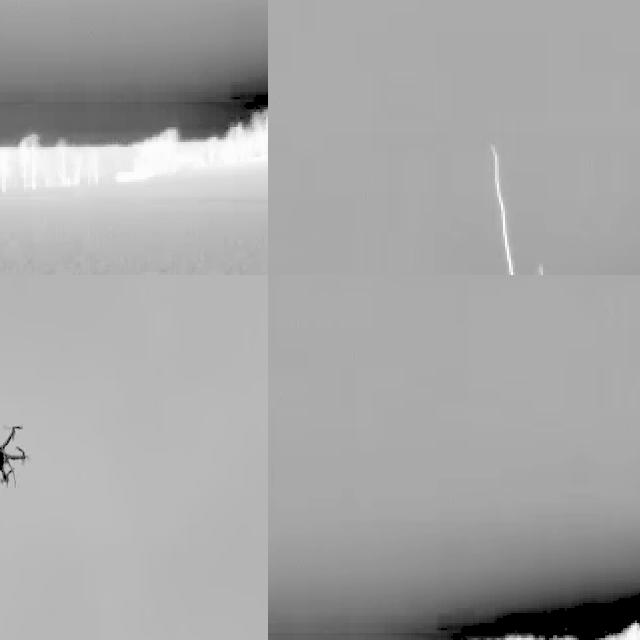drone: (0, 411, 34, 497)
